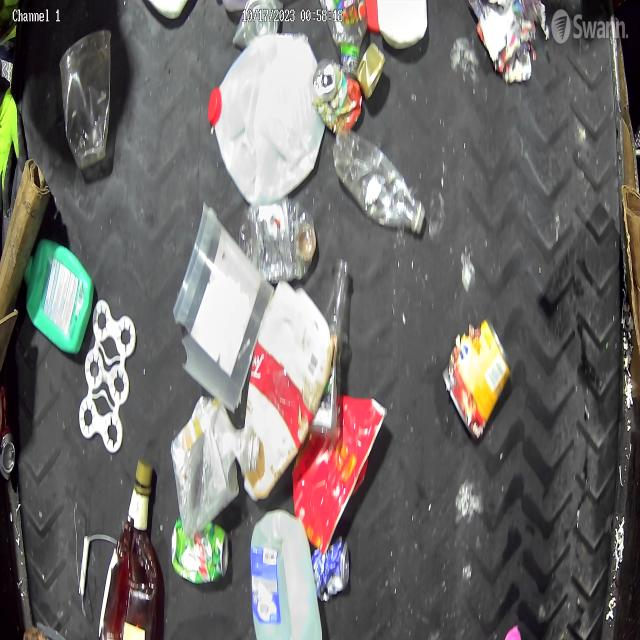can: (443, 319, 511, 437), (312, 59, 363, 134), (171, 522, 230, 584), (312, 534, 351, 604), (232, 0, 284, 49), (356, 40, 386, 101), (0, 388, 16, 479)
milk_jug: (207, 30, 321, 203), (250, 508, 324, 640)
non_white_jug: (242, 282, 333, 499), (27, 242, 94, 358)
plastic_bottle: (332, 127, 426, 236), (240, 200, 316, 280)
